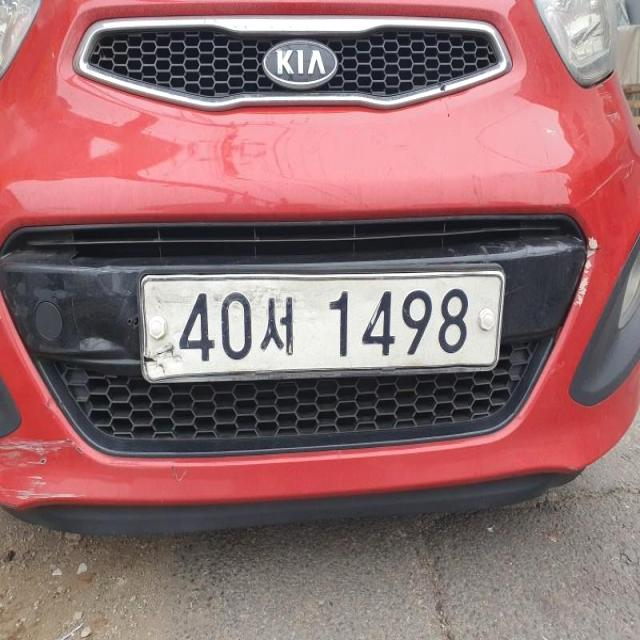illegal_plate: (136, 264, 505, 381)
